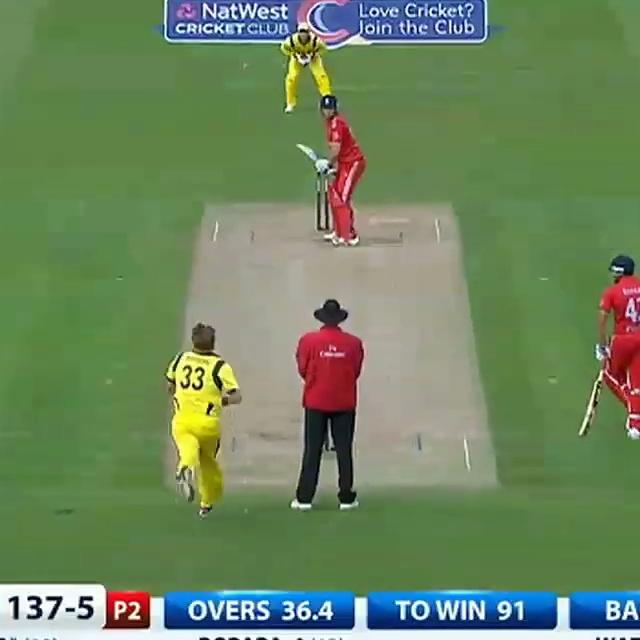umpire: (282, 290, 376, 514)
